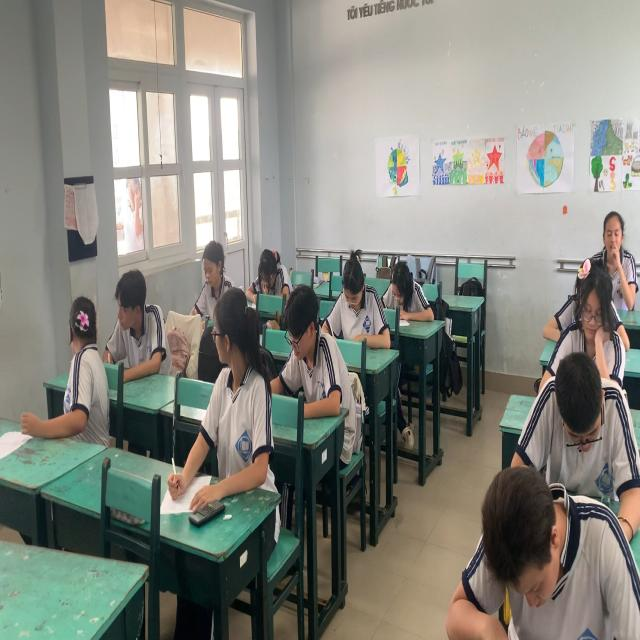cheating: (196, 287, 271, 502), (53, 290, 111, 444)
not_cheating: (460, 450, 629, 635), (539, 351, 626, 487), (280, 283, 342, 421), (111, 268, 166, 385), (566, 270, 619, 366), (334, 246, 380, 355), (388, 243, 426, 328), (598, 204, 630, 304), (195, 232, 231, 314), (252, 237, 290, 310)
